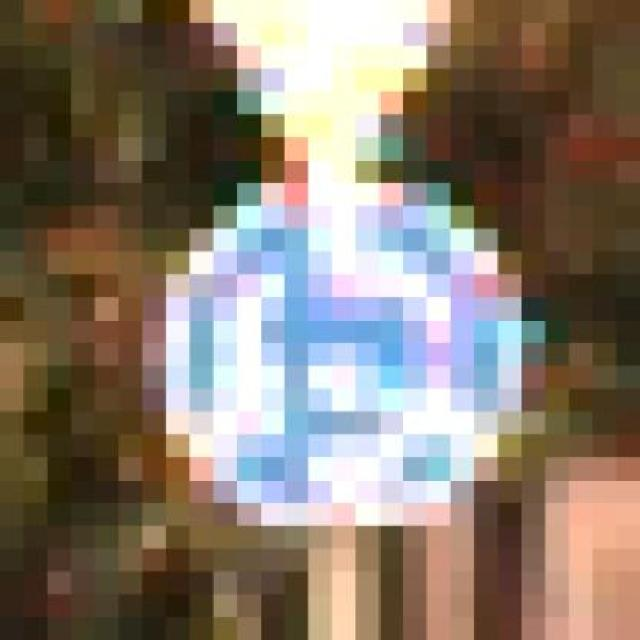Round-About: (95, 137, 593, 572)
